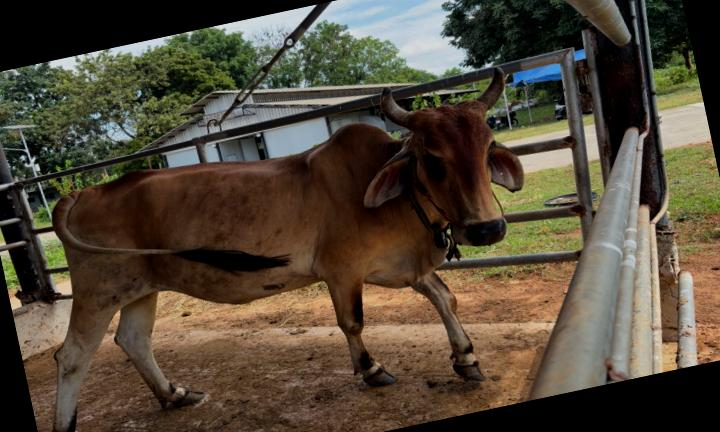Brahman: (53, 67, 524, 432)
